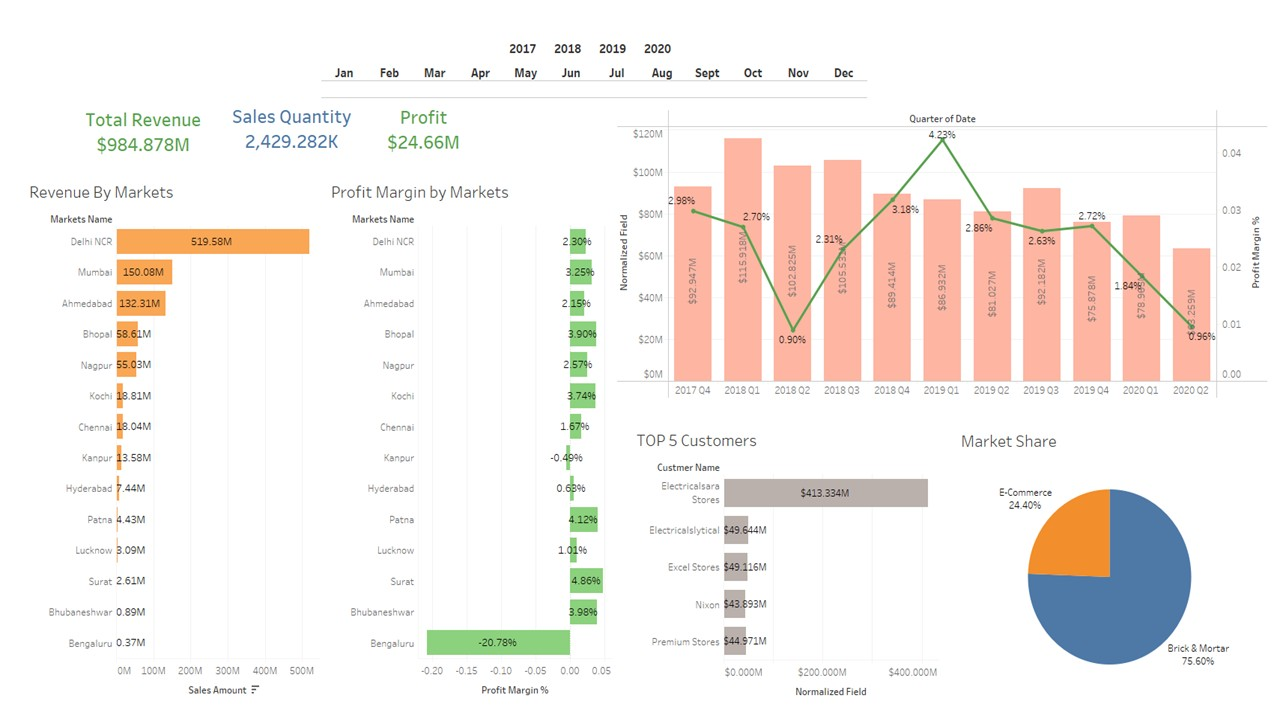

What the dashboard file says about the page in this screenshot:
{"tool":"tableau","page":{"name":"Profit Analysis","canvas":[1000,1000],"units":"permille","ordinal":0},"visuals":[{"type":"worksheet","title":"Years","mark":"Automatic","cols":["date"],"box":[390.7,16.7,152.2,89.3]},{"type":"worksheet","title":"Months","mark":"Automatic","cols":["cy_date"],"box":[250.9,89.3,426.6,46.9]},{"type":"worksheet","title":"Quantity","mark":"Automatic","box":[175.5,142.9,116.4,81.5]},{"type":"worksheet","title":"Profit","mark":"Automatic","box":[296.1,144,83.1,78.1]},{"type":"worksheet","title":"Revenue","mark":"Automatic","box":[59.9,147.3,112.8,80.4]},{"type":"worksheet","title":"Profit Trend","mark":"Bar","rows":["Calculation_2325546306166304768","Calculation_588564225223073792"],"cols":["date"],"box":[482.2,152.9,508.5,400.7]},{"type":"worksheet","title":"Revenue By Markets","mark":"Automatic","rows":["markets_name"],"cols":["sales_amount"],"box":[20.6,243.3,228.6,732.1]},{"type":"worksheet","title":"Profit Margin by Markets","mark":"Automatic","rows":["markets_name"],"cols":["Calculation_588564225223073792"],"box":[256.3,243.3,221.8,732.1]},{"type":"worksheet","title":"TOP 5 Customers","mark":"Automatic","rows":["custmer_name"],"cols":["Calculation_2325546306166304768"],"box":[495.3,588.2,238,389.5]},{"type":"worksheet","title":"Market Share","mark":"Pie","box":[748.4,589.3,237,376.1]}]}

Visuals, with their boxes on the dashboard's canvas, which has no fixed pixel size, in thousandths of its width and height (x1, y1, x2, y2). These are canvas units, not pixel positions in the 1280x720 screenshot, which may show the page scaled, cropped or inside an application window:
"Years" worksheet: 391 17 543 106
"Months" worksheet: 251 89 678 136
"Quantity" worksheet: 176 143 292 224
"Profit" worksheet: 296 144 379 222
"Revenue" worksheet: 60 147 173 228
"Profit Trend" worksheet (Bar marks): 482 153 991 554
"Revenue By Markets" worksheet: 21 243 249 975
"Profit Margin by Markets" worksheet: 256 243 478 975
"TOP 5 Customers" worksheet: 495 588 733 978
"Market Share" worksheet (Pie marks): 748 589 985 965
